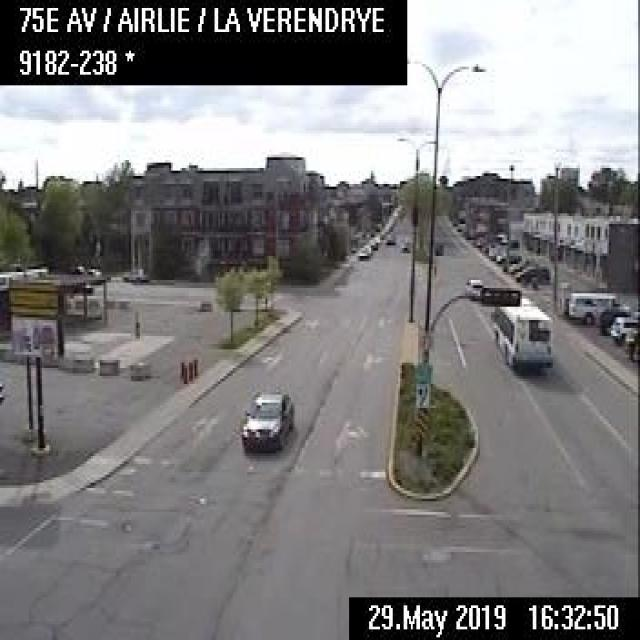bus: (487, 291, 555, 376)
construction: (191, 355, 198, 376), (187, 358, 193, 381), (182, 360, 188, 382)
vehicle: (238, 384, 294, 451), (567, 289, 623, 322), (608, 312, 637, 343), (514, 262, 549, 284), (119, 264, 146, 282), (462, 272, 482, 293), (512, 264, 534, 278), (508, 256, 530, 270), (431, 240, 444, 256), (354, 245, 368, 259), (384, 232, 396, 244), (399, 238, 409, 252), (368, 236, 378, 248)
